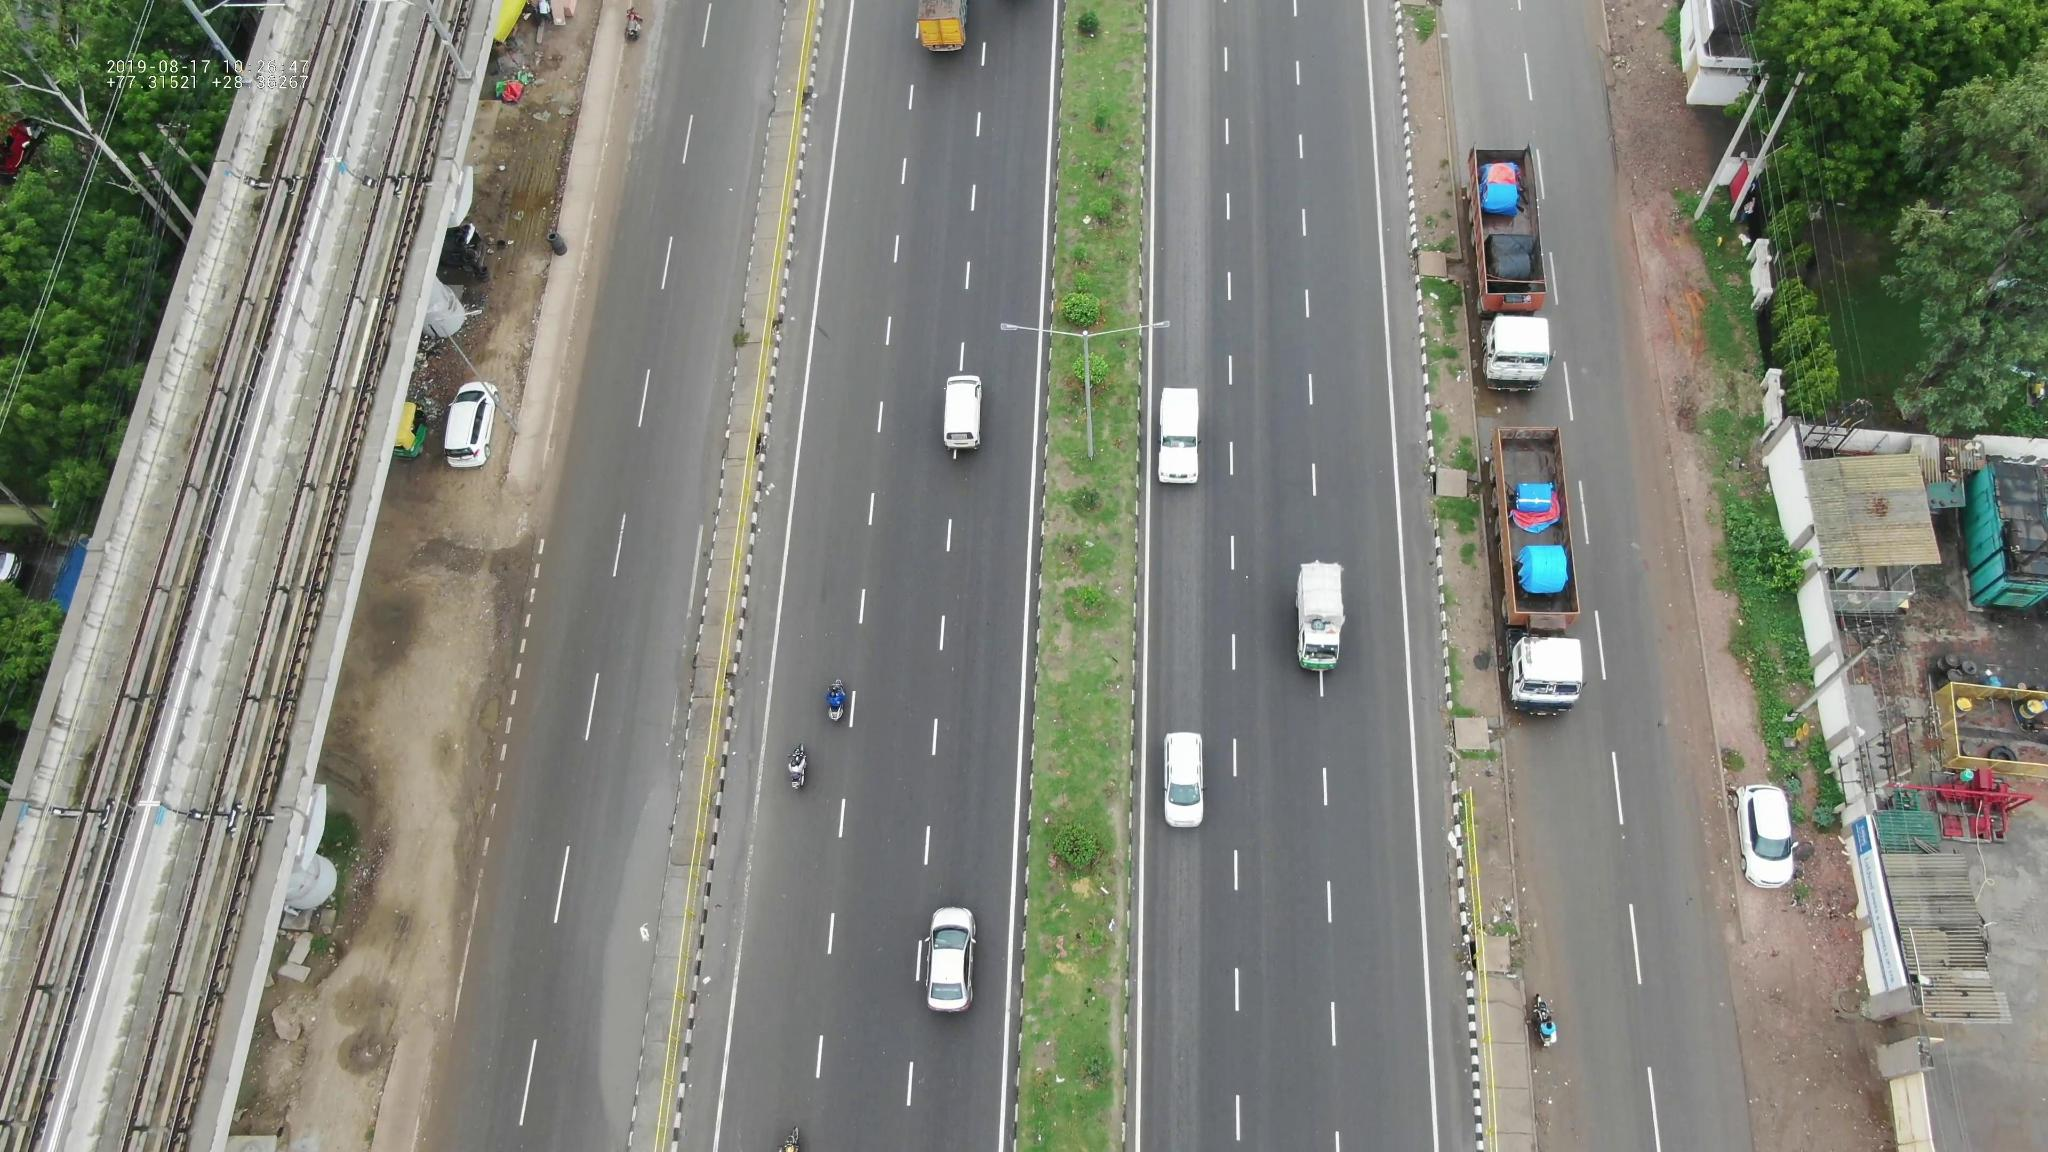Muddy_road: (1632, 484, 1701, 740)
